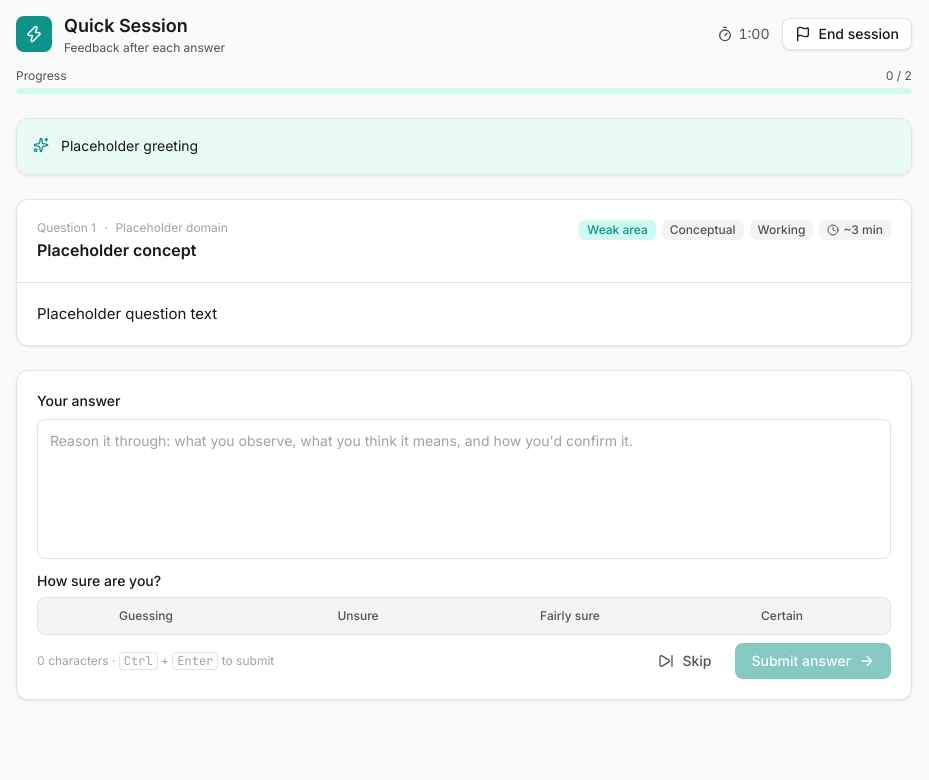
Scenario: confidence and reflection › requires a confidence rating before submitting, but not to skip
Type "Placeholder answer" into the text box labelled "Your answer".
click(464, 489); type("Placeholder answer")  # box [37,419,891,559]
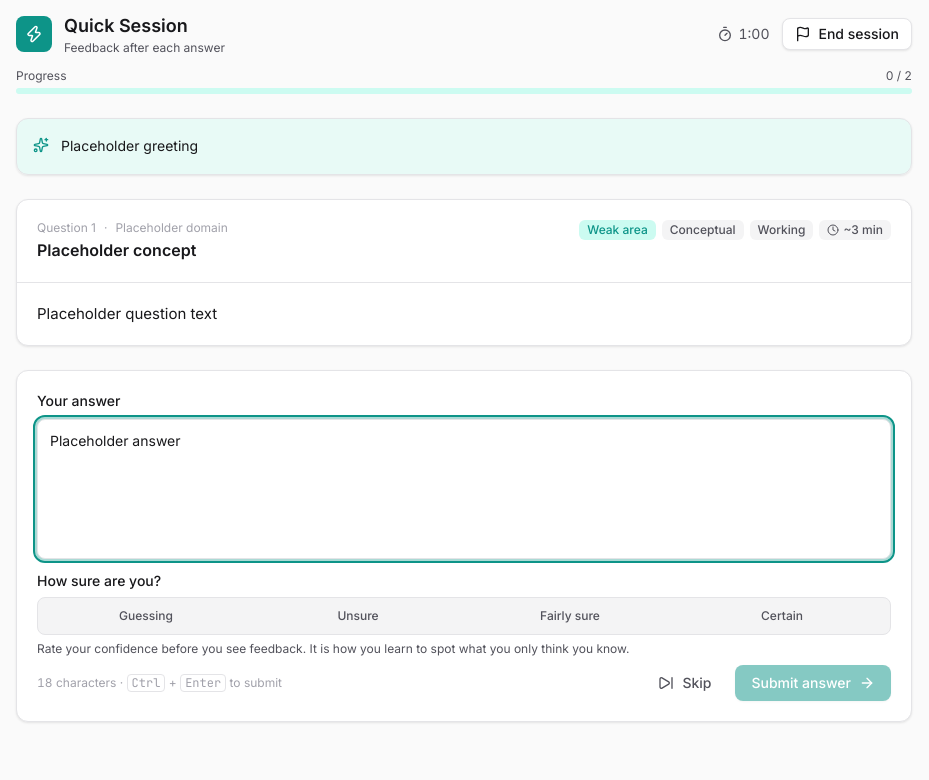
Expected: the button "Submit answer" is disabled, [736,665,891,701]
Expected: the text "Rate your confidence" is shown, [37,641,630,656]
Click the radio button labelled "Certain".
click(782, 616)  # box [678,602,886,630]
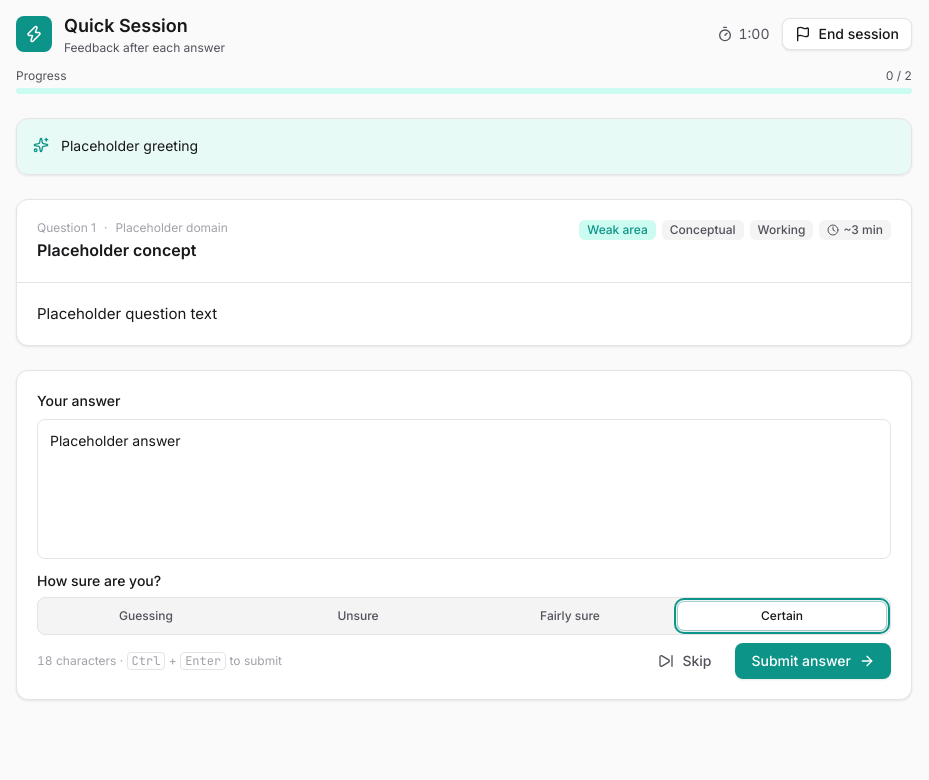
Expected: the button "Submit answer" is enabled
Click the button "Submit answer".
click(813, 661)  # box [736,643,891,679]
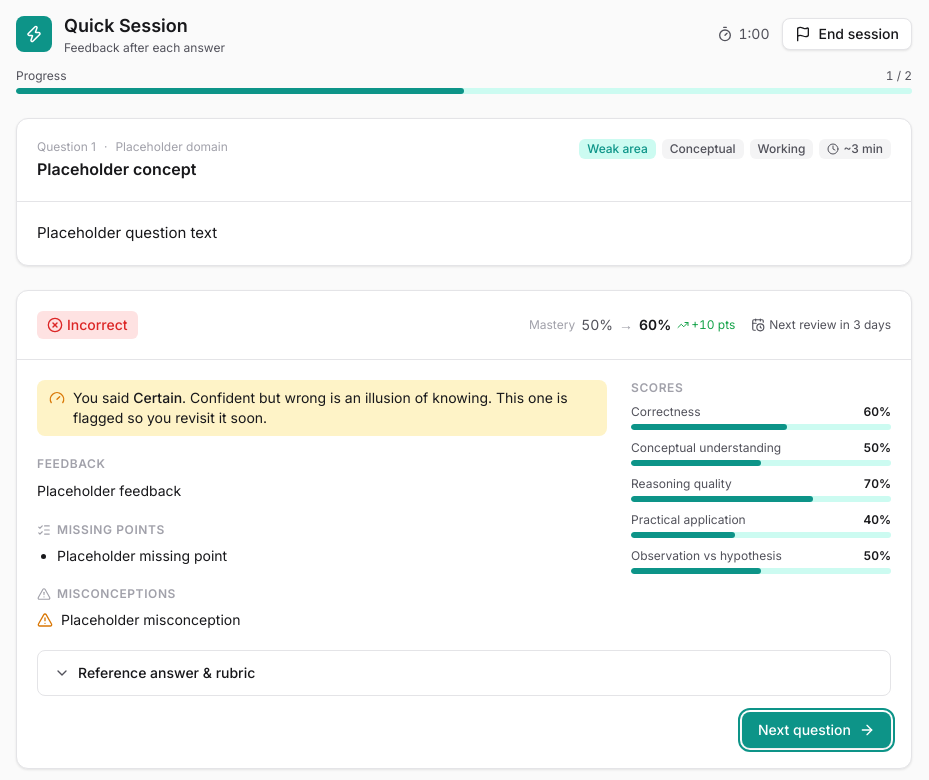
Expected: the element with test id "calibration-note" shows "You said Certain", [37,380,607,436]
Expected: the element with test id "calibration-note" shows "illusion of knowing", [73,388,568,426]
